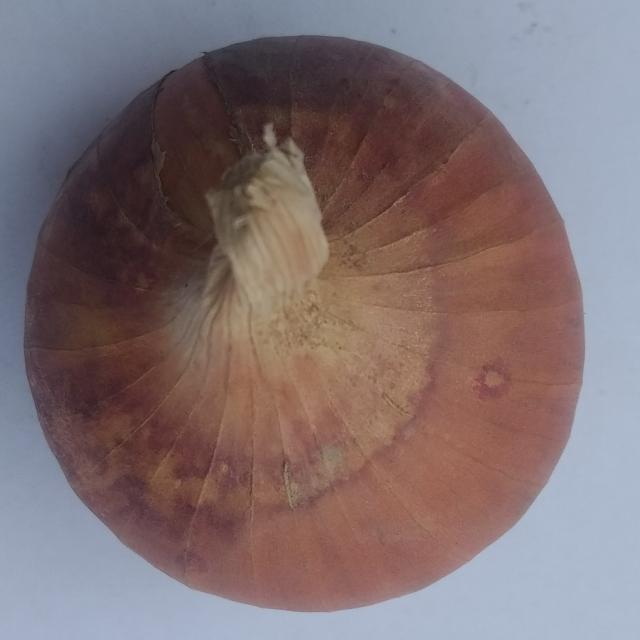onion: (22, 33, 590, 614)
